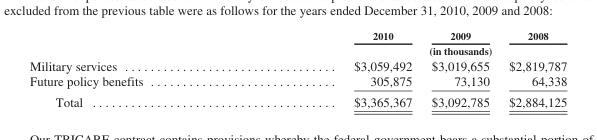table: (28, 29, 566, 108)
table column: (28, 29, 247, 108), (247, 29, 421, 108), (421, 29, 498, 108), (498, 29, 566, 108)
table column header: (28, 29, 566, 57)
table row: (28, 72, 566, 91), (28, 91, 566, 108), (28, 42, 566, 57), (28, 57, 566, 72), (28, 29, 566, 42)
table spanning cell: (247, 42, 566, 57)
